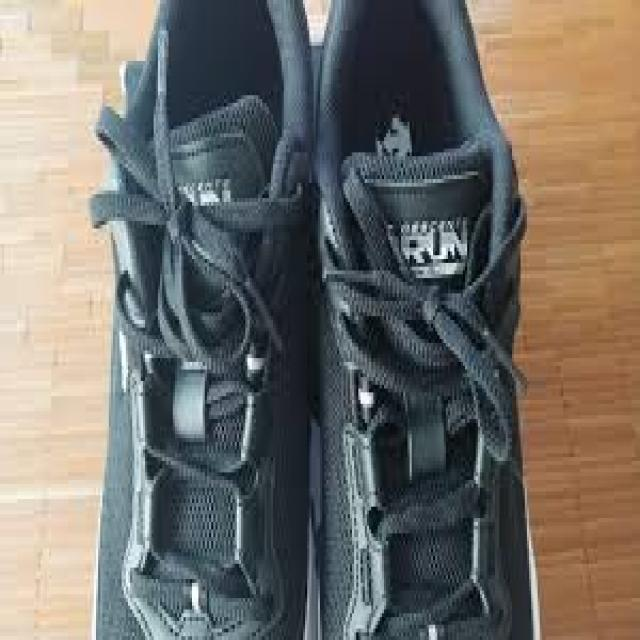shoe: (311, 0, 540, 640), (90, 0, 316, 640)
